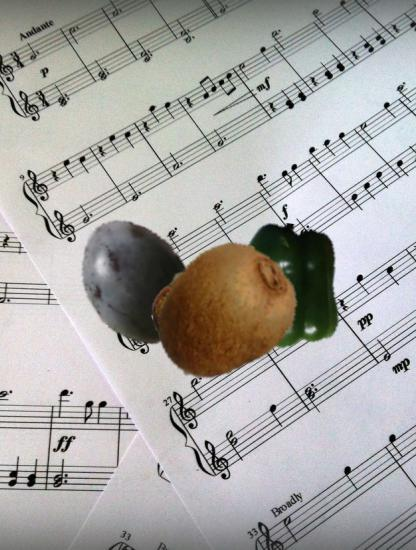Kiwi: (152, 241, 299, 388)
Nut: (151, 275, 222, 346)
Pepper: (229, 224, 355, 350)
Plum: (67, 213, 207, 353)
